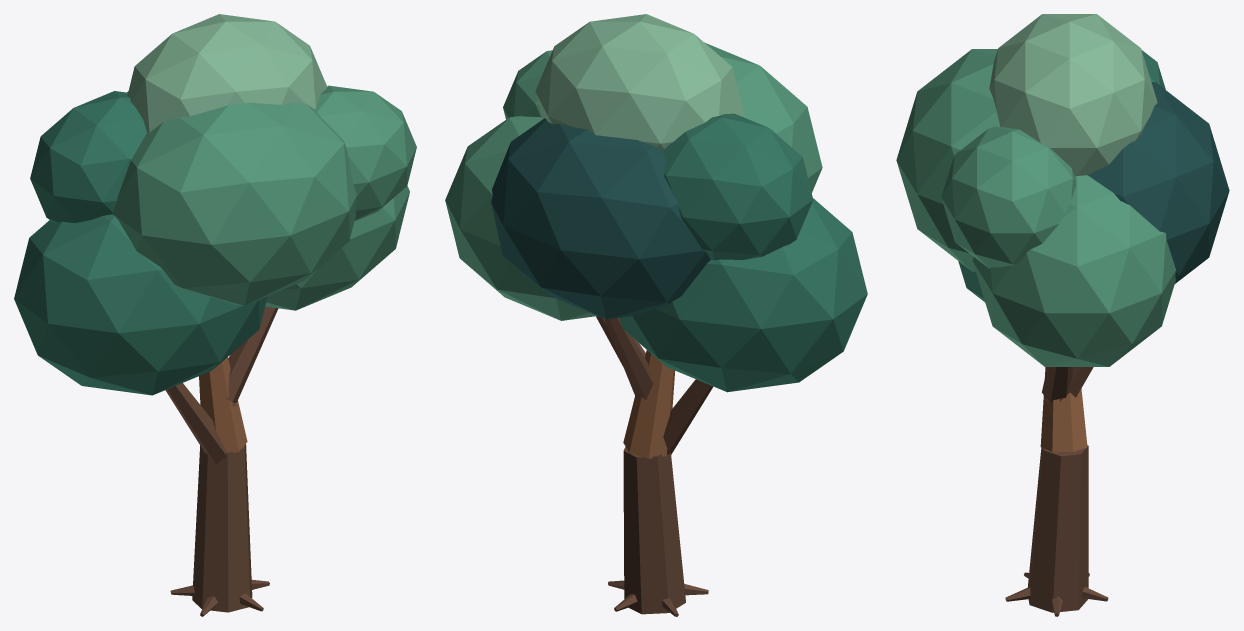
The model's file is EG_Arbol_Copa.fbx.
The picture shows the model from 3 angles, left to right: view 1: azimuth 30°, elevation 25°; view 2: azimuth 150°, elevation 25°; view 3: azimuth 270°, elevation 25°; orthographic projection.
Visible parts, largest first — view 1: EG_Arbol_Copa; view 2: EG_Arbol_Copa; view 3: EG_Arbol_Copa.
Boxes of the visible parts, left/top/right/bottom form: EG_Arbol_Copa: left=14, top=14, right=416, bottom=616; EG_Arbol_Copa: left=445, top=14, right=867, bottom=616; EG_Arbol_Copa: left=896, top=14, right=1229, bottom=616.
Bounding box in the file's own units: 3.45 × 5.07 × 2.62.
1 material, 1 textured.
